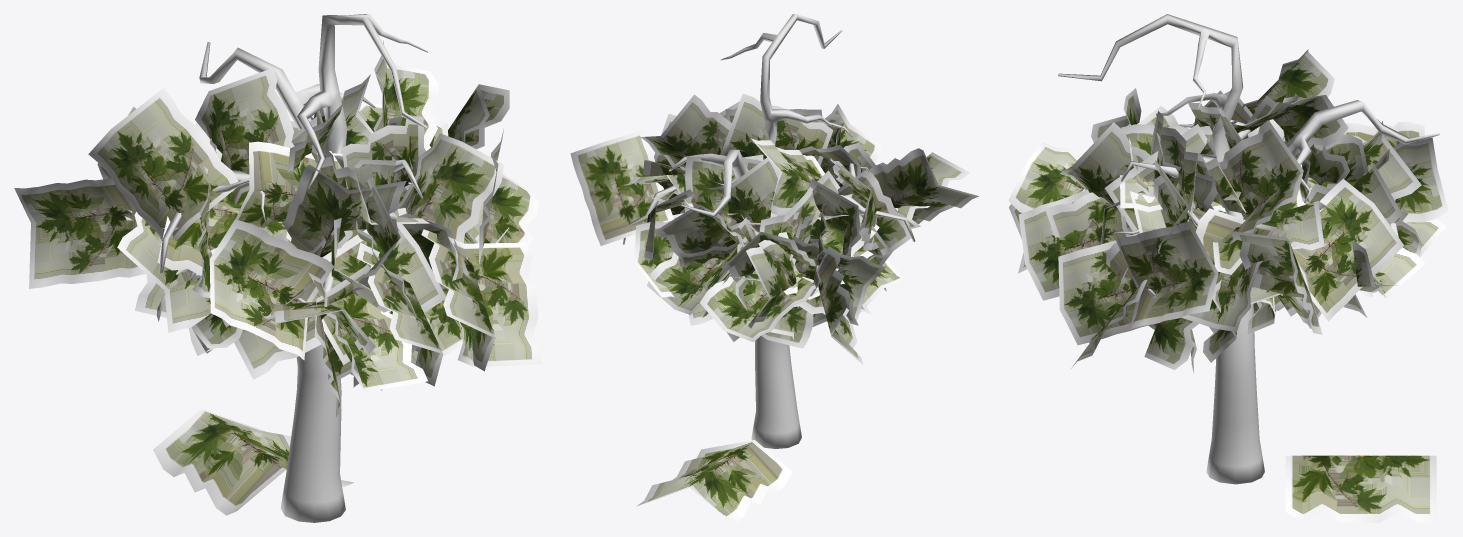
The model's file is Tree_3_HALF (1).fbx.
3 views of the same model, side by side, from view 1: azimuth 30°, elevation 25°; view 2: azimuth 150°, elevation 25°; view 3: azimuth 270°, elevation 25° (orthographic). The views are drawn at different scales.
Visible parts, largest first — view 1: Tree, Tree|Leaf|Dupli|4, Tree|Leaf|Dupli|10, Tree|Leaf|Dupli|47, Leaf, Tree|Leaf|Dupli|65, Tree|Leaf|Dupli|16, Tree|Leaf|Dupli|, Tree|Leaf|Dupli|18, Tree|Leaf|Dupli|15, Tree|Leaf|Dupli|59, Tree|Leaf|Dupli|32 (+22 smaller); view 2: Tree, Tree|Leaf|Dupli|8, Leaf, Tree|Leaf|Dupli|11, Tree|Leaf|Dupli|47, Tree|Leaf|Dupli|2, Tree|Leaf|Dupli|31, Tree|Leaf|Dupli|48, Tree|Leaf|Dupli|49, Tree|Leaf|Dupli|, Tree|Leaf|Dupli|54, Tree|Leaf|Dupli|10 (+21 smaller); view 3: Tree, Leaf, Tree|Leaf|Dupli|9, Tree|Leaf|Dupli|66, Tree|Leaf|Dupli|31, Tree|Leaf|Dupli|64, Tree|Leaf|Dupli|29, Tree|Leaf|Dupli|7, Tree|Leaf|Dupli|8, Tree|Leaf|Dupli|60, Tree|Leaf|Dupli|35, Tree|Leaf|Dupli|72 (+27 smaller).
Part boxes in pixels (box(x1,y1,x2,y2)): Tree: box(126, 14, 509, 522); Tree|Leaf|Dupli|4: box(88, 88, 238, 241); Tree|Leaf|Dupli|10: box(14, 178, 145, 288); Tree|Leaf|Dupli|47: box(209, 219, 333, 360); Leaf: box(153, 408, 354, 515); Tree|Leaf|Dupli|65: box(448, 236, 541, 367); Tree|Leaf|Dupli|16: box(397, 133, 503, 242); Tree|Leaf|Dupli|: box(195, 68, 301, 205); Tree|Leaf|Dupli|18: box(281, 164, 406, 257); Tree|Leaf|Dupli|15: box(308, 272, 427, 392); Tree|Leaf|Dupli|59: box(312, 212, 445, 364); Tree|Leaf|Dupli|32: box(235, 141, 342, 228); Tree: box(622, 14, 915, 448); Tree|Leaf|Dupli|8: box(570, 130, 674, 245); Leaf: box(637, 440, 792, 522); Tree|Leaf|Dupli|11: box(700, 270, 818, 342); Tree|Leaf|Dupli|47: box(869, 148, 978, 223); Tree|Leaf|Dupli|2: box(720, 93, 833, 165); Tree|Leaf|Dupli|31: box(639, 94, 731, 169); Tree|Leaf|Dupli|48: box(647, 239, 742, 314); Tree|Leaf|Dupli|49: box(654, 204, 746, 261); Tree|Leaf|Dupli|: box(751, 138, 824, 215); Tree|Leaf|Dupli|54: box(707, 157, 779, 232); Tree|Leaf|Dupli|10: box(817, 246, 863, 364); Tree: box(1058, 14, 1439, 484); Leaf: box(1285, 455, 1436, 522); Tree|Leaf|Dupli|9: box(1292, 178, 1403, 321); Tree|Leaf|Dupli|66: box(1116, 221, 1218, 329); Tree|Leaf|Dupli|31: box(1205, 120, 1303, 248); Tree|Leaf|Dupli|64: box(1058, 228, 1165, 345); Tree|Leaf|Dupli|29: box(1018, 189, 1130, 300); Tree|Leaf|Dupli|7: box(1181, 208, 1277, 332); Tree|Leaf|Dupli|8: box(1230, 231, 1322, 334); Tree|Leaf|Dupli|60: box(1008, 142, 1083, 213); Tree|Leaf|Dupli|35: box(1060, 122, 1150, 209); Tree|Leaf|Dupli|72: box(1336, 137, 1448, 222).
Size of the model in its own units: 609 by 731 by 604.
Materials: 2 (1 with a texture image).
